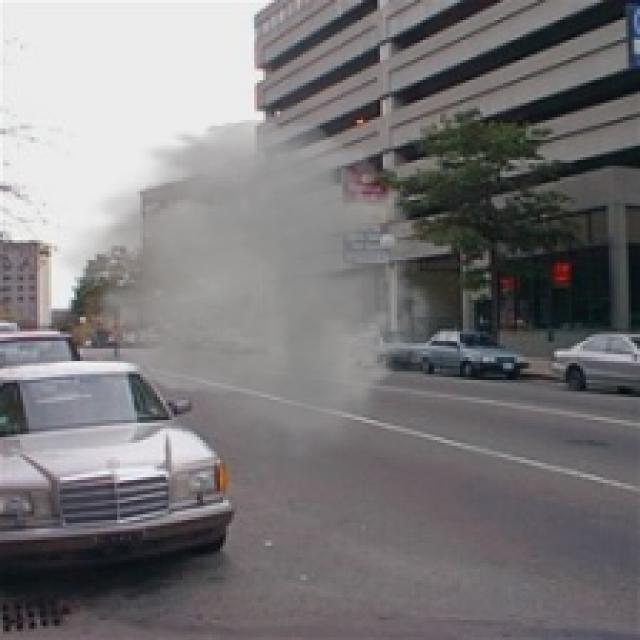Smoke: (46, 111, 448, 460)
